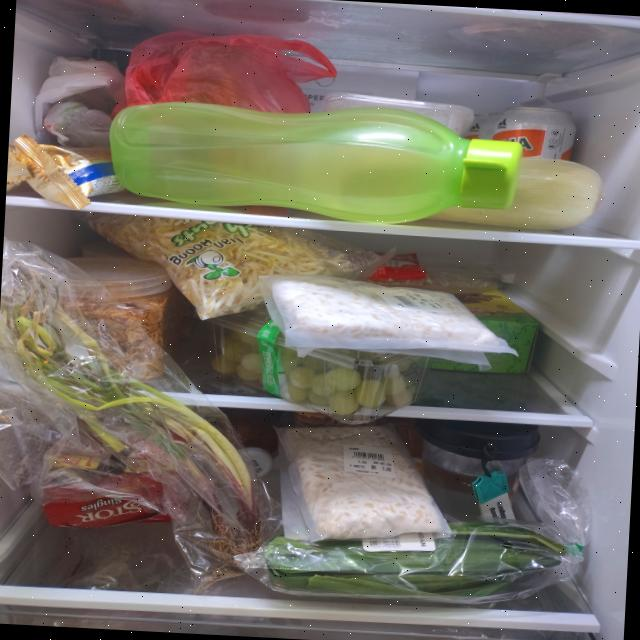bean_sprouts: (79, 210, 362, 328)
corn: (423, 151, 604, 234)
grape: (208, 318, 420, 420)
leafy_greens: (261, 509, 569, 606)
spring_onion: (0, 257, 275, 566)
tempeh: (266, 414, 449, 546), (256, 271, 504, 347)
unknown_bag: (110, 26, 340, 132)
